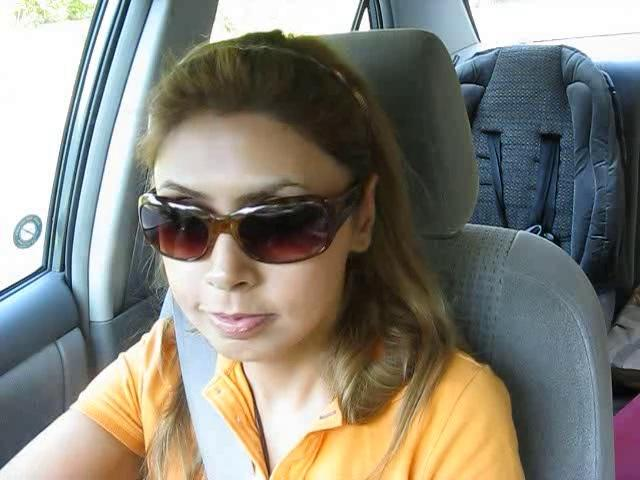no_yawn: (185, 288, 297, 349)
